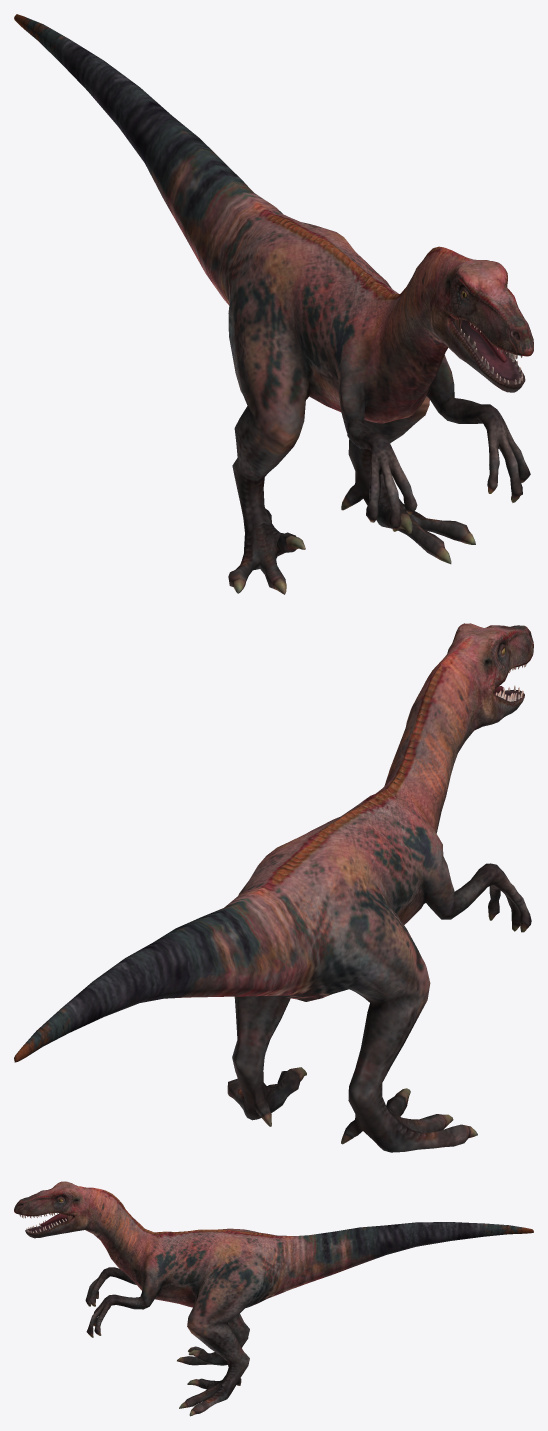
File: raptor_sketchfab.glb
3 renders of one model, top to bottom at view 1: azimuth 30°, elevation 25°; view 2: azimuth 150°, elevation 25°; view 3: azimuth 270°, elevation 25°, orthographic. The views are drawn at different scales.
Visible parts, largest first — view 1: Object_78; view 2: Object_78; view 3: Object_78.
Boxes of the visible parts, left/top/right/bottom form: Object_78: left=14, top=14, right=533, bottom=594; Object_78: left=14, top=623, right=533, bottom=1152; Object_78: left=14, top=1181, right=533, bottom=1416.
Bounding box in the file's own units: 2.19 × 3.49 × 8.11.
Materials: 1 (1 with a texture image).
